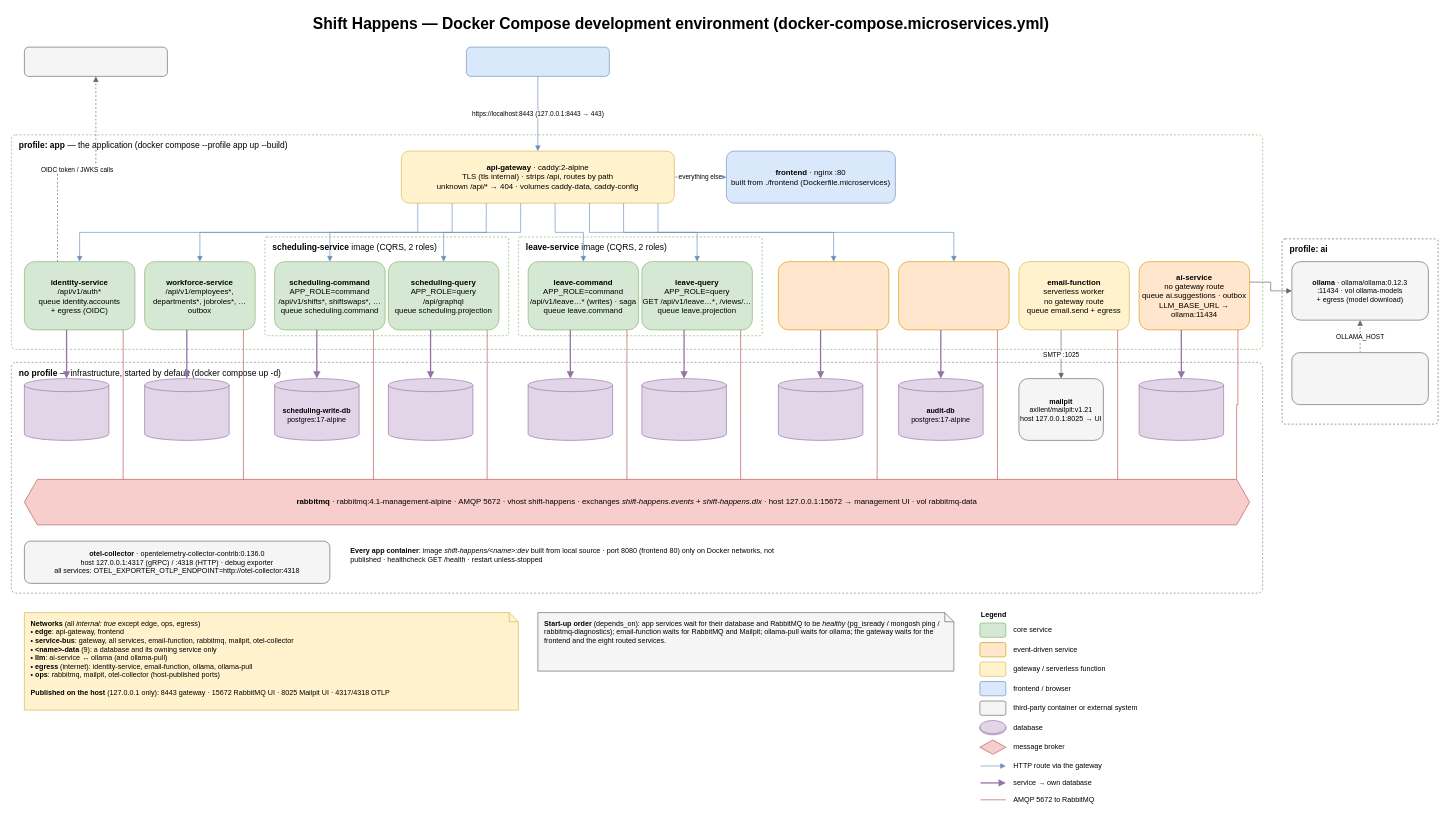
Image size: 1450x817. Some labels were removed from this diagram. The centre of each missing label's shape, as x and y in pixels:
ai-db postgres:17-alpine: [1181,409]
audit-service /api/v1/auditlogs* queue audit.events: [953,295]
Browser: [537,61]
Google / GitHub external OIDC providers: [95,61]
identity-db postgres:17-alpine vol identity-data: [66,409]
leave-read-db mongo:8.0 leave_read: [683,409]
leave-write-db postgres:17-alpine: [570,409]
notification-db postgres:17-alpine: [820,409]
notification-service /api/v1/notifications* queue notification.events outbox: [833,295]
ollama-pull (one-shot) ollama pull ${LLM_MODEL:-llama3.2:1b} restart: no: [1359,378]
scheduling-read-db mongo:8.0 scheduling_read: [430,409]
workforce-db postgres:17-alpine vol workforce-data: [186,409]
